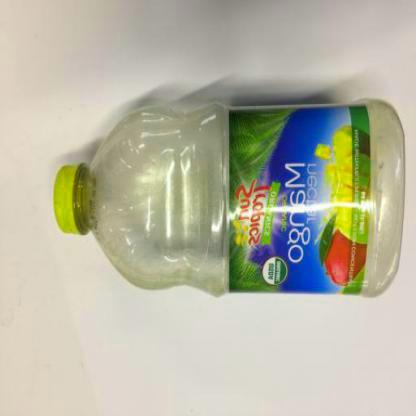Plastic: (49, 94, 408, 300)
